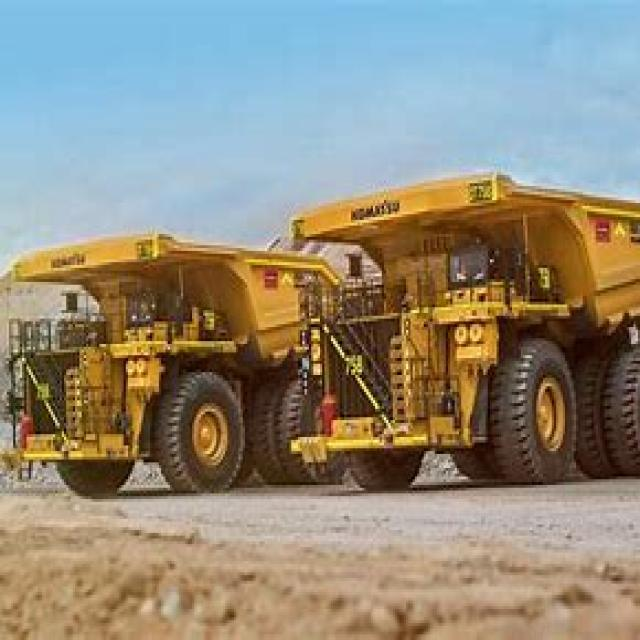dump_truck: (289, 155, 638, 491), (9, 223, 307, 479)
